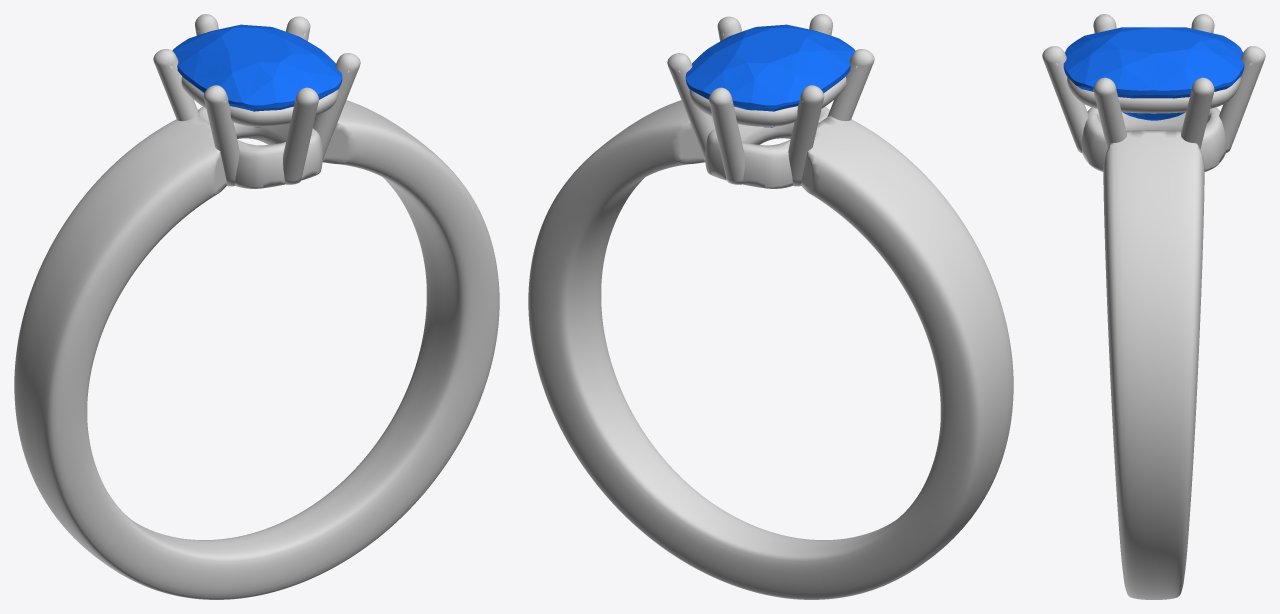
Rendered from bluesapphire-cushion-platinum-6prong-straighttaperedband-nosidestones.glb.
3 renders of one model, left to right at view 1: azimuth 30°, elevation 25°; view 2: azimuth 150°, elevation 25°; view 3: azimuth 270°, elevation 25°, orthographic.
Parts seen in each view (by area): view 1: metal.002, stone; view 2: metal.002, stone; view 3: metal.002, stone.
Part boxes in pixels (left/top/right/bottom): metal.002: left=14, top=14, right=499, bottom=599; stone: left=172, top=24, right=342, bottom=127; metal.002: left=528, top=14, right=1013, bottom=599; stone: left=685, top=24, right=855, bottom=127; metal.002: left=1042, top=14, right=1265, bottom=599; stone: left=1063, top=27, right=1244, bottom=120.
Bounding box in the file's own units: 20.48 × 23.24 × 8.8.
